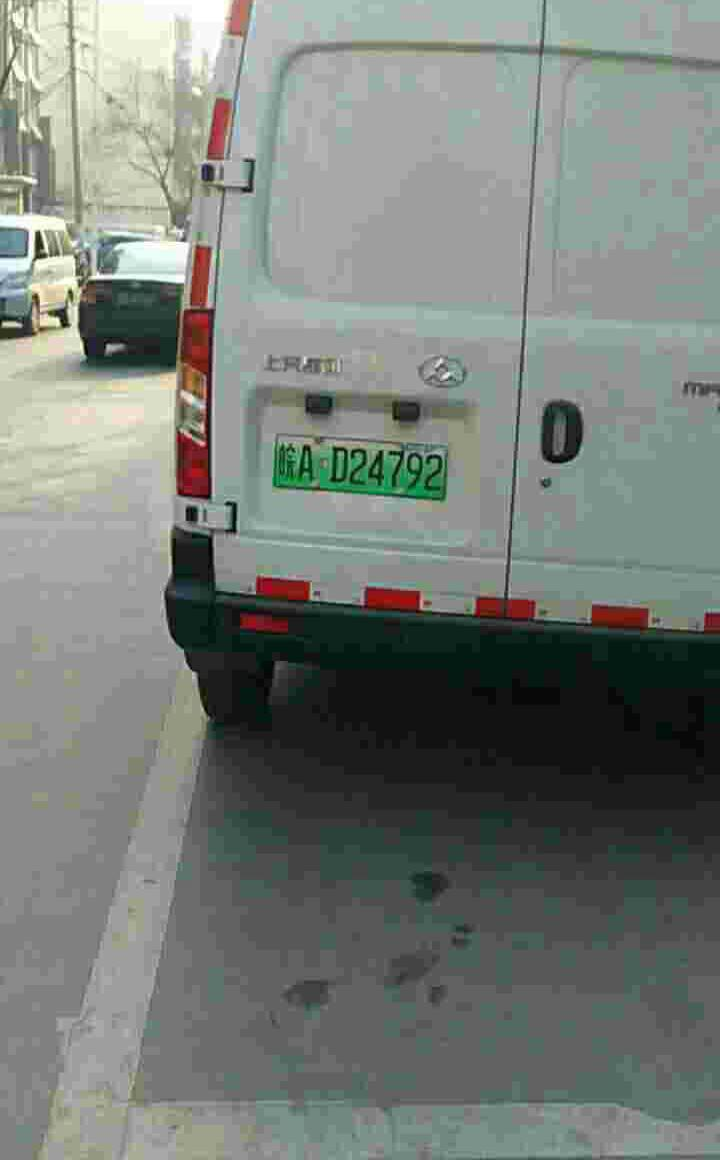car_green: (276, 429, 453, 501)
